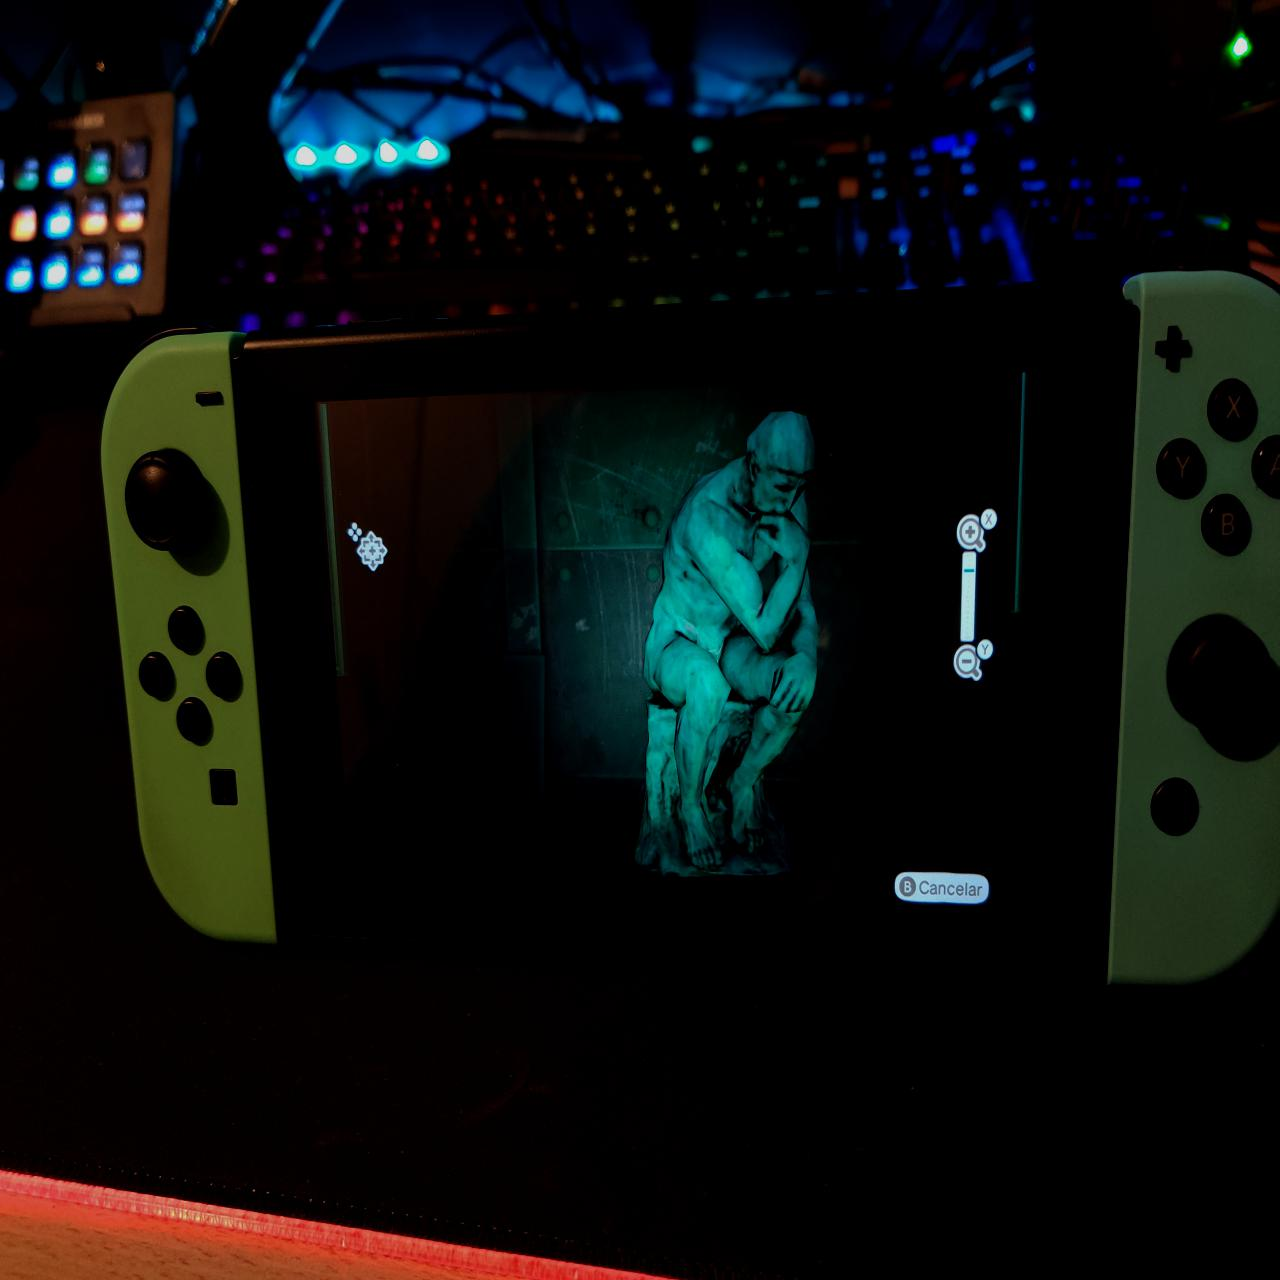Thinker: (624, 402, 829, 887)
